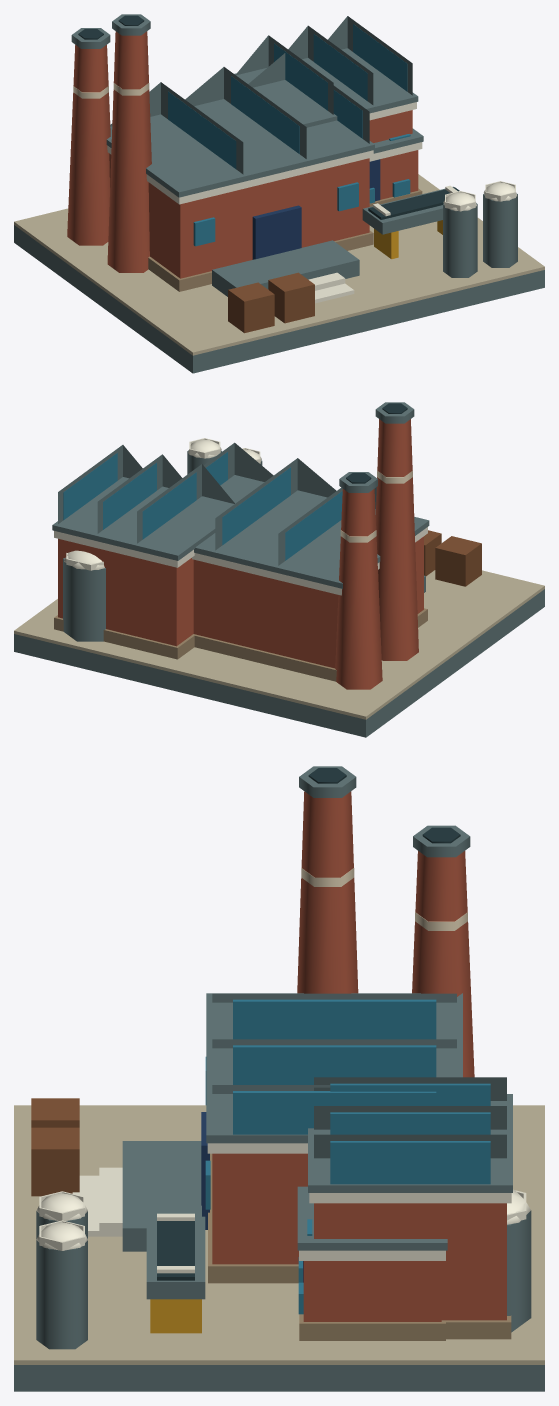
File: factory-lv3.glb
The picture shows the model from 3 angles, top to bottom: view 1: azimuth 30°, elevation 25°; view 2: azimuth 150°, elevation 25°; view 3: azimuth 270°, elevation 25°; orthographic projection. The views are drawn at different scales.
Visible parts, largest first — view 1: foundation_paving, chimney_clay, main_workshop_clay, main_workshop_roof_iron, foundation_iron, main_workshop_skylights_glass, material_silos_iron, second_workshop_skylights_glass, loading_platform_iron, second_workshop_roof_iron, supply_crates_wood, main_workshop_sawtooth_iron (+16 smaller); view 2: foundation_paving, chimney_clay, main_workshop_clay, foundation_iron, second_workshop_clay, main_workshop_roof_iron, second_workshop_roof_iron, second_workshop_skylights_glass, main_workshop_skylights_glass, main_workshop_sawtooth_iron, second_workshop_sawtooth_iron, supply_tank_iron (+10 smaller); view 3: foundation_paving, main_workshop_skylights_glass, chimney_clay, foundation_iron, second_workshop_skylights_glass, second_workshop_clay, main_workshop_clay, warehouse_clay, loading_platform_iron, main_workshop_roof_iron, second_workshop_sawtooth_iron, material_silos_iron (+19 smaller).
Part boxes in pixels (x1=…): foundation_paving: x1=14, y1=174, x2=544, y2=355; chimney_clay: x1=67, y1=31, x2=151, y2=272; main_workshop_clay: x1=109, y1=153, x2=369, y2=278; main_workshop_roof_iron: x1=106, y1=99, x2=374, y2=197; foundation_iron: x1=14, y1=225, x2=544, y2=373; main_workshop_skylights_glass: x1=168, y1=76, x2=362, y2=168; material_silos_iron: x1=443, y1=193, x2=517, y2=277; second_workshop_skylights_glass: x1=274, y1=24, x2=407, y2=110; loading_platform_iron: x1=212, y1=240, x2=359, y2=296; second_workshop_roof_iron: x1=234, y1=48, x2=418, y2=127; supply_crates_wood: x1=228, y1=272, x2=314, y2=333; main_workshop_sawtooth_iron: x1=110, y1=53, x2=369, y2=174; foundation_paving: x1=14, y1=570, x2=544, y2=719; chimney_clay: x1=335, y1=419, x2=418, y2=689; main_workshop_clay: x1=193, y1=536, x2=423, y2=668; foundation_iron: x1=14, y1=589, x2=544, y2=737; second_workshop_clay: x1=58, y1=538, x2=193, y2=646; main_workshop_roof_iron: x1=194, y1=475, x2=429, y2=588; second_workshop_roof_iron: x1=52, y1=477, x2=236, y2=560; second_workshop_skylights_glass: x1=63, y1=453, x2=196, y2=539; main_workshop_skylights_glass: x1=206, y1=452, x2=342, y2=560; main_workshop_sawtooth_iron: x1=203, y1=442, x2=376, y2=565; second_workshop_sawtooth_iron: x1=58, y1=445, x2=234, y2=543; supply_tank_iron: x1=63, y1=558, x2=105, y2=641; foundation_paving: x1=14, y1=1105, x2=544, y2=1364; main_workshop_skylights_glass: x1=233, y1=999, x2=436, y2=1134; chimney_clay: x1=297, y1=791, x2=474, y2=1077; foundation_iron: x1=14, y1=1365, x2=544, y2=1391; second_workshop_skylights_glass: x1=330, y1=1083, x2=490, y2=1184; second_workshop_clay: x1=314, y1=1203, x2=506, y2=1320; main_workshop_clay: x1=212, y1=1153, x2=307, y2=1264; warehouse_clay: x1=303, y1=1261, x2=441, y2=1321; loading_platform_iron: x1=122, y1=1141, x2=201, y2=1251; main_workshop_roof_iron: x1=206, y1=993, x2=462, y2=1143; second_workshop_sawtooth_iron: x1=314, y1=1077, x2=506, y2=1158; material_silos_iron: x1=36, y1=1211, x2=87, y2=1349.
Size of the model in its own units: 1 by 0.7197 by 0.88.
